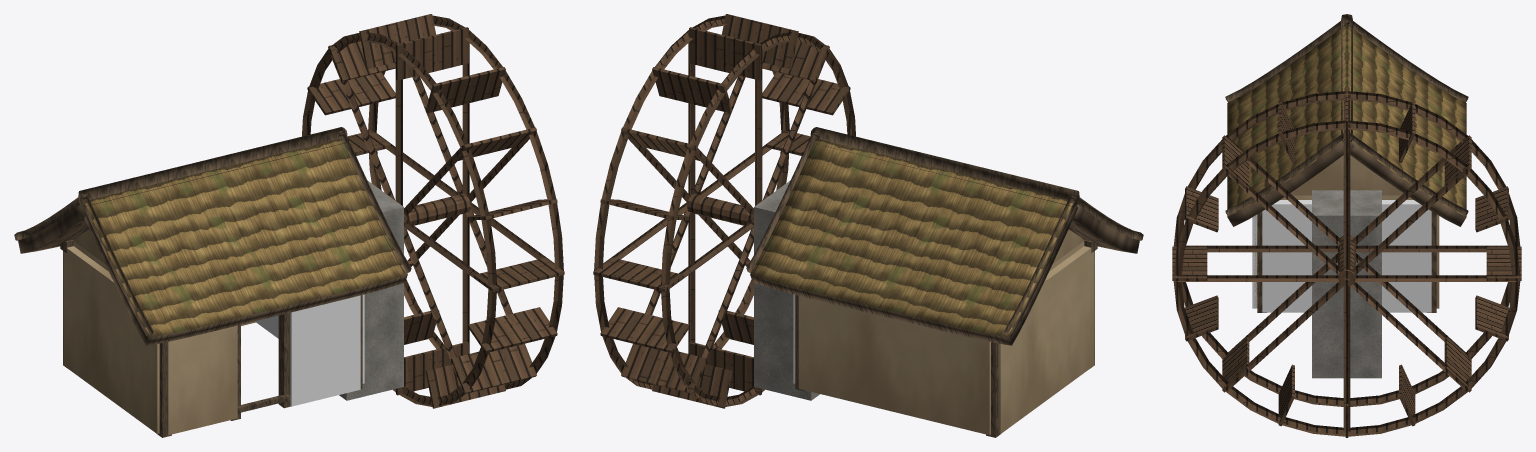
The model's file is waterwheel.glb.
3 views of the same model, side by side, from view 1: azimuth 30°, elevation 25°; view 2: azimuth 150°, elevation 25°; view 3: azimuth 270°, elevation 25° (orthographic). The views are drawn at different scales.
Visible parts, largest first — view 1: HutRoof, Waterwheel, HutWalls, Front-convcolonly.001, HutRoofRidge, Pier, HutFrame, HutGables, Side-convcolonly.001; view 2: HutRoof, Waterwheel, HutWalls, HutRoofRidge, Pier, HutFrame, HutGables; view 3: Waterwheel, HutRoof, Pier, Side-convcolonly.001, HutRoofRidge, HutGables, HutFrame, HutWalls, Front-convcolonly.001.
Boxes of the visible parts, x1,y1,x2,y2 form: HutRoof: [18, 138, 407, 345]; Waterwheel: [302, 14, 564, 408]; HutWalls: [63, 246, 290, 435]; Front-convcolonly.001: [290, 295, 360, 406]; HutRoofRidge: [14, 127, 411, 336]; Pier: [339, 180, 403, 400]; HutFrame: [60, 239, 362, 437]; HutGables: [73, 229, 108, 271]; Side-convcolonly.001: [256, 294, 364, 383]; HutRoof: [750, 138, 1139, 345]; Waterwheel: [593, 14, 855, 408]; HutWalls: [798, 246, 1094, 435]; HutRoofRidge: [746, 127, 1143, 336]; Pier: [754, 180, 819, 400]; HutFrame: [795, 239, 1097, 437]; HutGables: [1049, 229, 1084, 271]; Waterwheel: [1172, 90, 1521, 437]; HutRoof: [1227, 24, 1466, 226]; Pier: [1312, 190, 1381, 378]; Side-convcolonly.001: [1262, 200, 1431, 312]; HutRoofRidge: [1225, 14, 1468, 217]; HutGables: [1280, 155, 1413, 199]; HutFrame: [1257, 211, 1436, 312]; HutWalls: [1254, 214, 1439, 308]; Front-convcolonly.001: [1252, 214, 1257, 308].
Size of what is drawn, in the model's own units: 8.15 by 7 by 7.
Materials: 5 (5 with a texture image).
